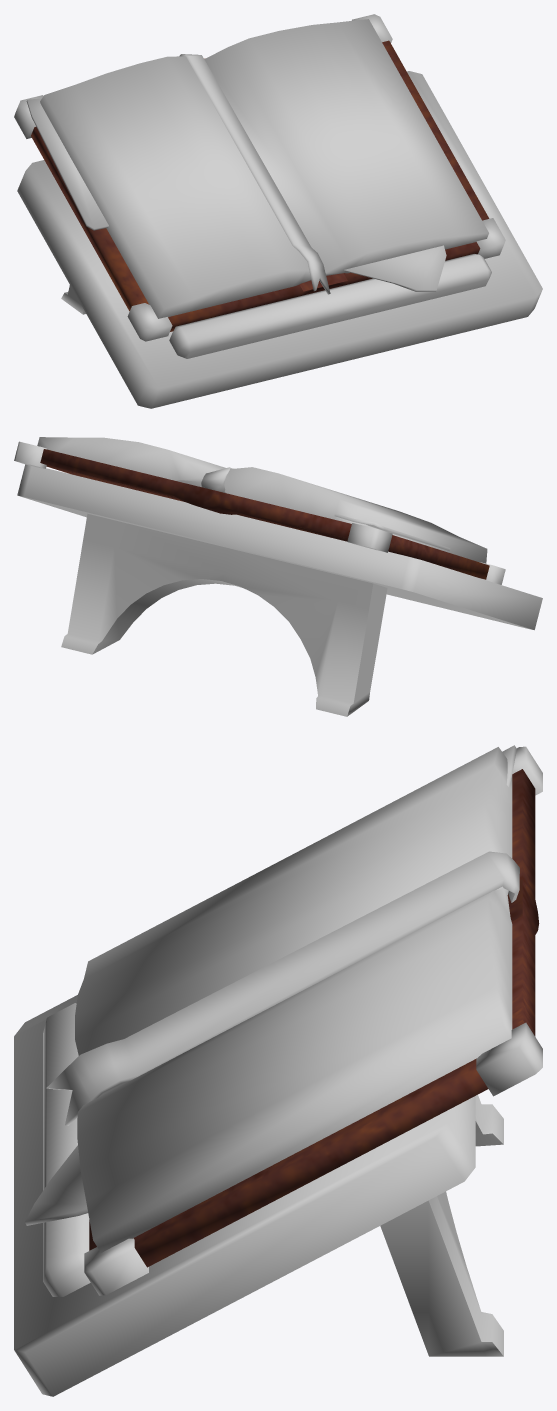
File: Mainbook_Magnant_Grace.FBX
3 renders of one model, top to bottom at view 1: azimuth 30°, elevation 25°; view 2: azimuth 150°, elevation 25°; view 3: azimuth 270°, elevation 25°, orthographic. The views are drawn at different scales.
Parts seen in each view (by area): view 1: Box032; view 2: Box032; view 3: Box032.
Part boxes in pixels (box(x1,y1,x2,y2)): Box032: box(14, 14, 542, 408); Box032: box(14, 437, 542, 716); Box032: box(14, 745, 542, 1396).
Size of the model in its own units: 57.34 by 30.6 by 38.84.
